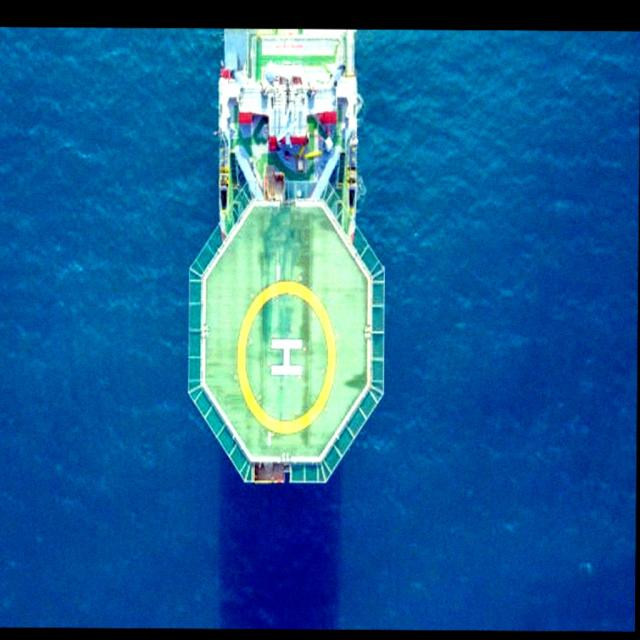helipad: (232, 278, 337, 438)
